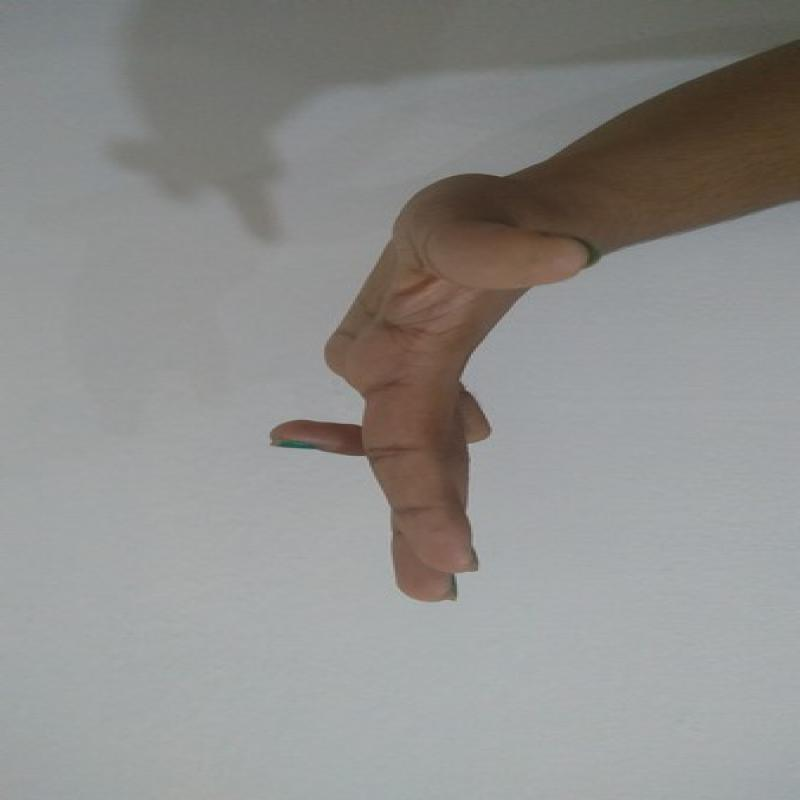Pathaaka: (267, 171, 601, 623)
